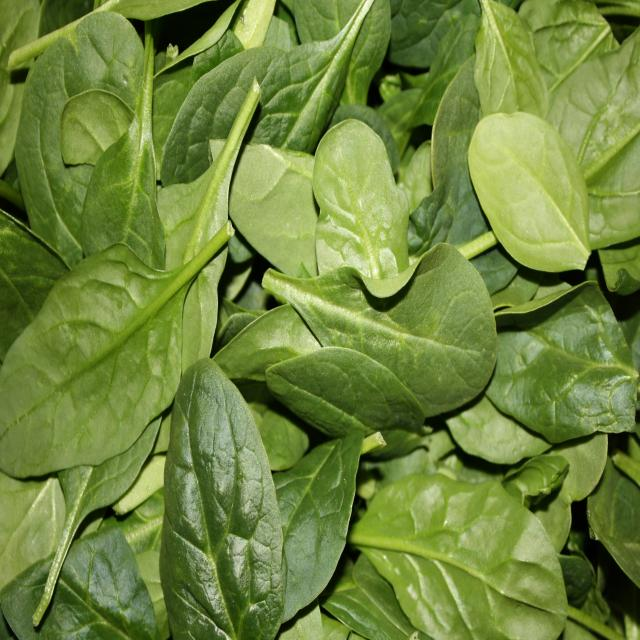spinach: (0, 245, 175, 476), (163, 360, 285, 640), (368, 477, 569, 640), (364, 250, 498, 412), (470, 113, 593, 274), (309, 121, 407, 265), (80, 127, 163, 248)
